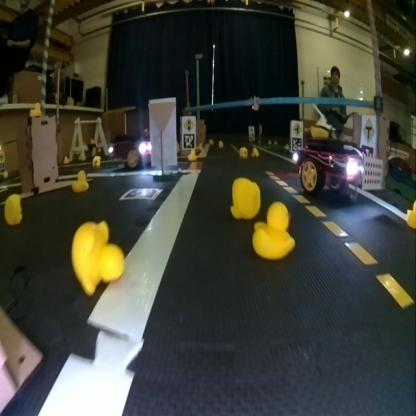Duckie: (71, 219, 123, 293), (252, 202, 295, 258), (230, 176, 259, 216), (5, 194, 22, 221), (71, 170, 87, 192), (30, 102, 40, 115), (92, 155, 100, 165), (188, 148, 196, 158), (240, 146, 247, 156), (252, 147, 258, 155), (218, 140, 223, 146)
Duckiebot: (297, 140, 383, 194), (108, 136, 151, 166)
Intersection sign: (361, 116, 375, 140), (292, 121, 302, 134)
QR code: (119, 187, 162, 199), (182, 132, 194, 146), (291, 137, 302, 149)
Signal sign: (182, 117, 194, 131)
